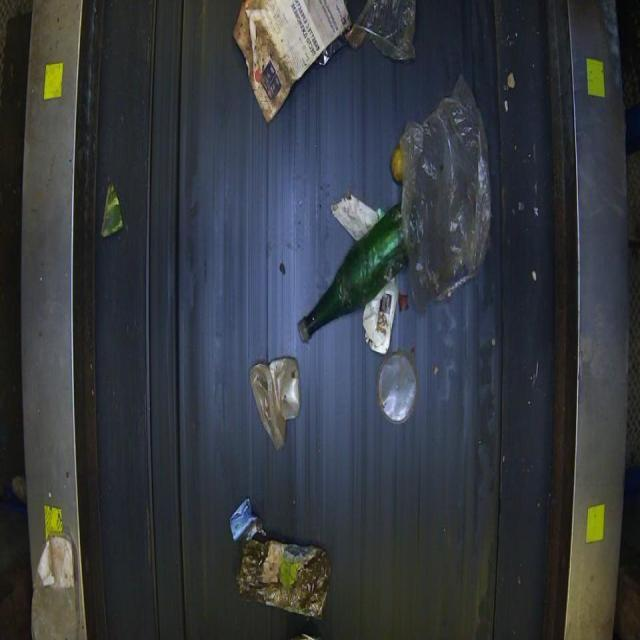trashbin: (14, 0, 633, 639)
